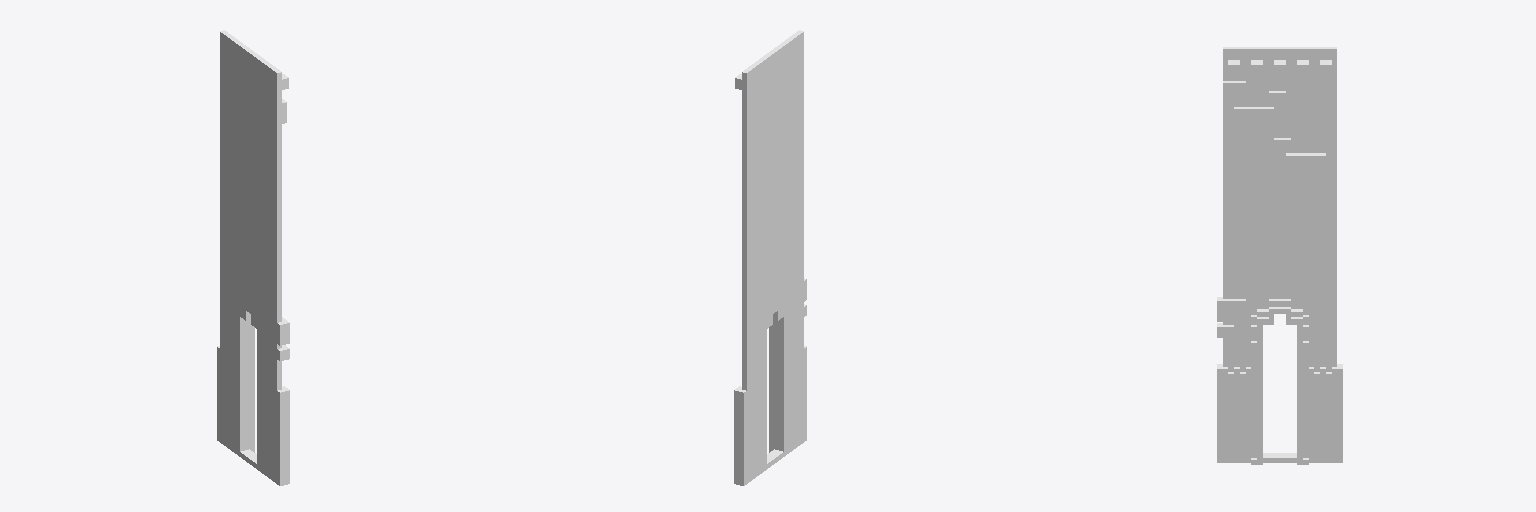
File: TallBuilding03-0.obj
3 views of the same model, side by side, from view 1: azimuth 30°, elevation 25°; view 2: azimuth 150°, elevation 25°; view 3: azimuth 270°, elevation 25° (orthographic).
Parts seen in each view (by area): view 1: object 1; view 2: object 1; view 3: object 1.
Part boxes in pixels (left/top/right/bottom): object 1: left=217, top=30, right=289, bottom=485; object 1: left=734, top=30, right=806, bottom=485; object 1: left=1217, top=47, right=1342, bottom=464.
Bounding box in the file's own units: 0.3 × 7.9 × 2.2.